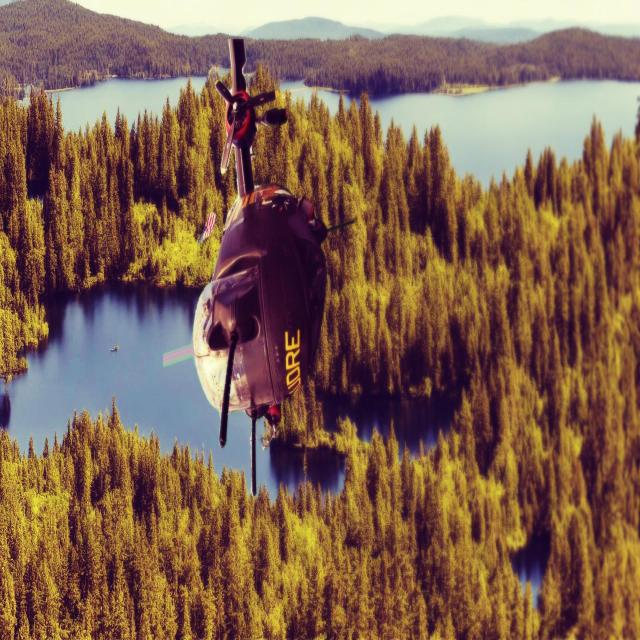airplane: (162, 36, 356, 496)
